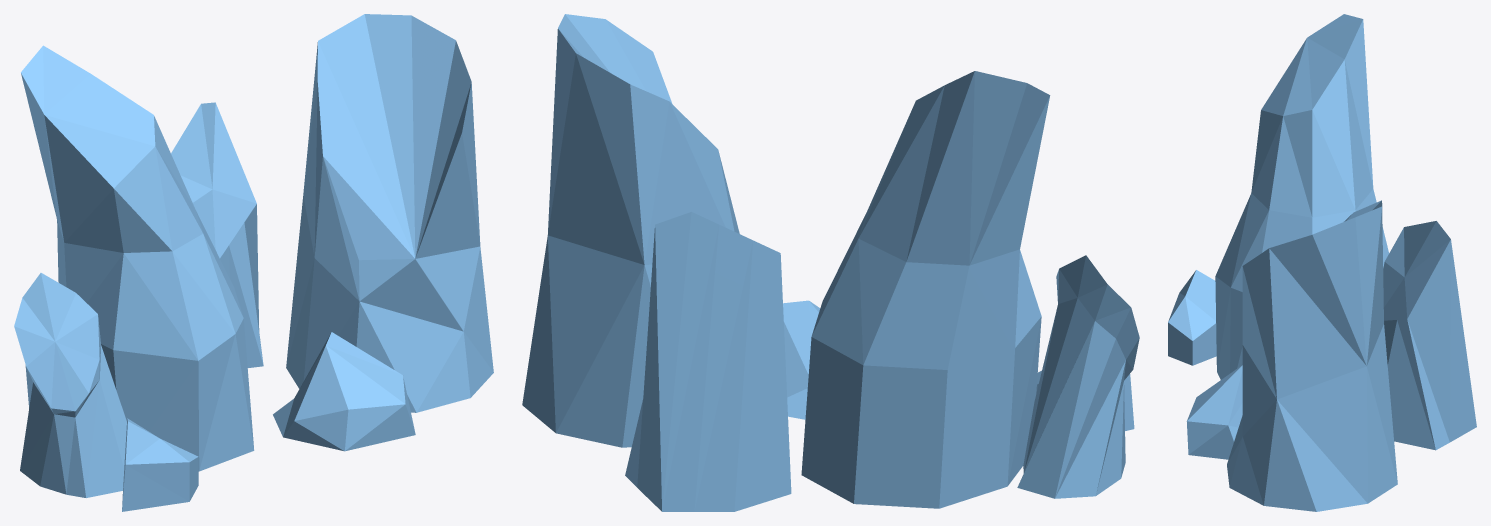
The model's file is _crystal_4.fbx.
3 views of the same model, side by side, from view 1: azimuth 30°, elevation 25°; view 2: azimuth 150°, elevation 25°; view 3: azimuth 270°, elevation 25° (orthographic). The views are drawn at different scales.
Visible parts, largest first — view 1: crystal_4; view 2: crystal_4; view 3: crystal_4.
Boxes of the visible parts, box(x1,y1,x2,y2) form: crystal_4: box(14, 14, 493, 511); crystal_4: box(522, 14, 1139, 511); crystal_4: box(1168, 14, 1476, 511).
Size of the model in its own units: 135 by 100 by 86.52.
